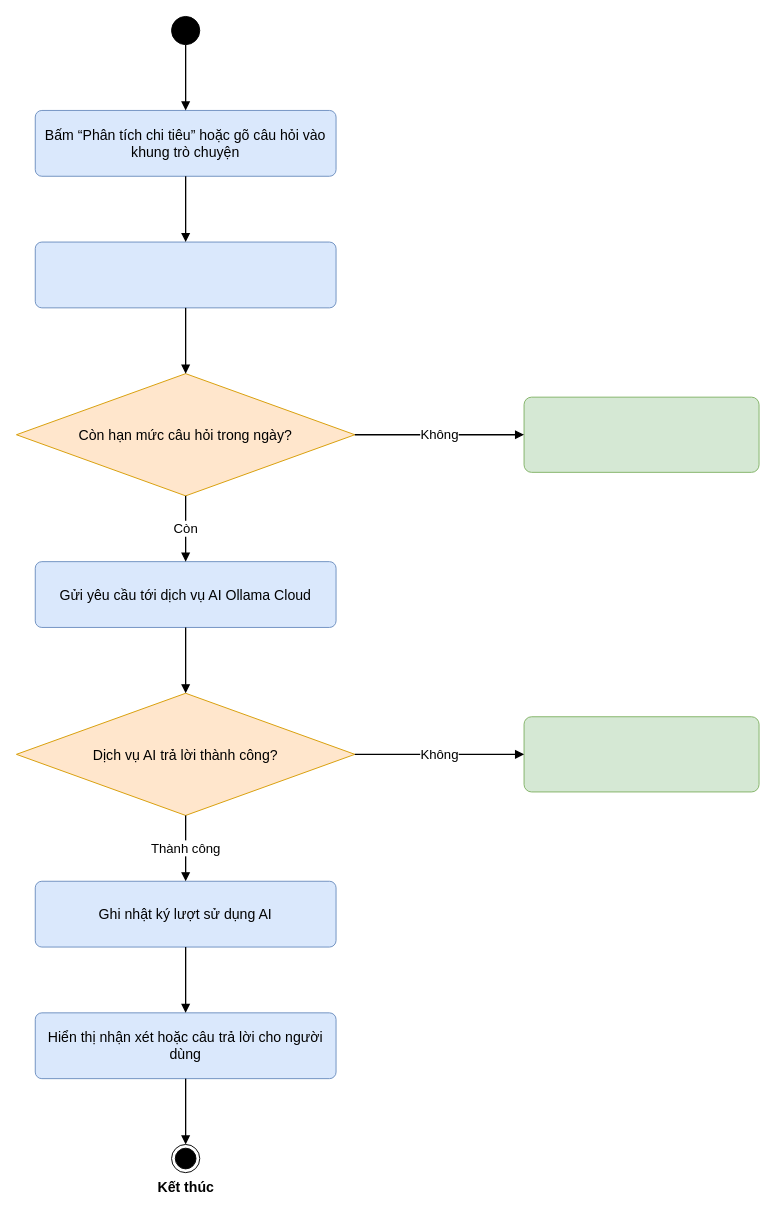
Image size: 776x1213. Some labels were removed from this diagram. Each missing label, with the box of its shape:
Báo lỗi: không kết nối được dịch vụ AI: (523, 716, 759, 792)
Báo lỗi: đã hết hạn mức AI hôm nay: (523, 396, 759, 472)
Bắt đầu: (171, 16, 200, 45)
Tổng hợp số liệu thu chi kèm câu hỏi: (34, 241, 336, 308)
